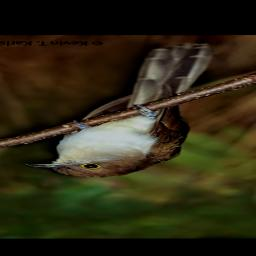Cuckoo: (28, 43, 215, 178)
